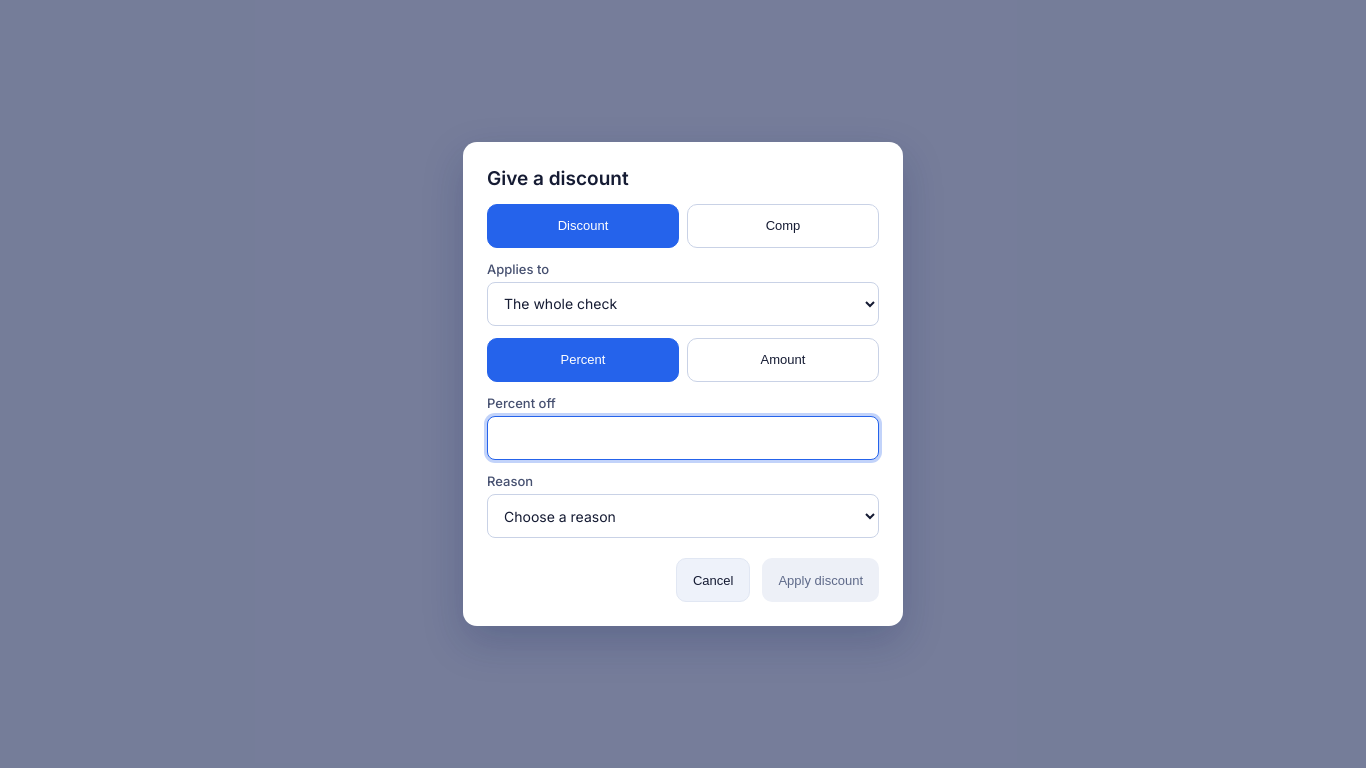
it: <DiscountDialog> › the manager is shown the exact money they approve, and that later items are not covered
Type "10" into the field labelled "Percent off" at (683, 438), box [487,416,879,460]
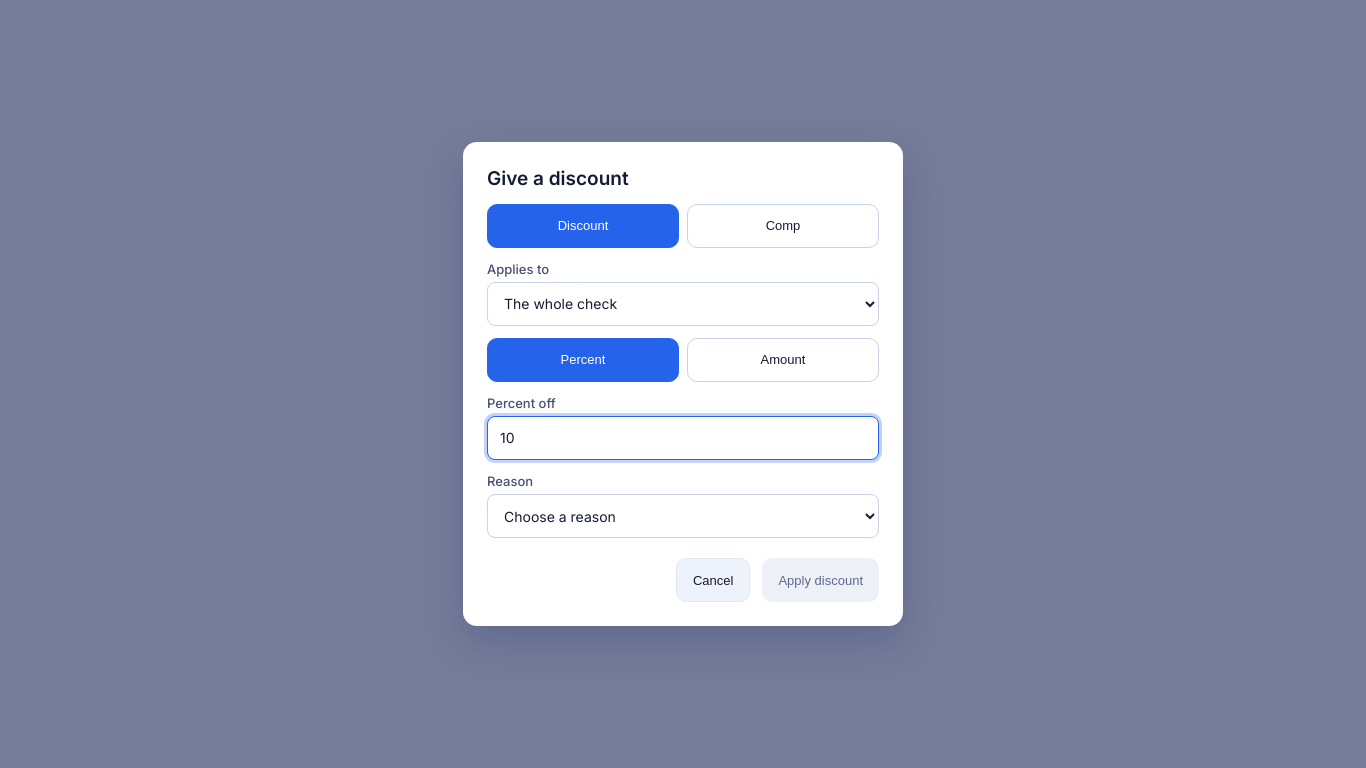
Select "Promotion" in the dropdown labelled "Reason" at (683, 516), box [487,494,879,538]
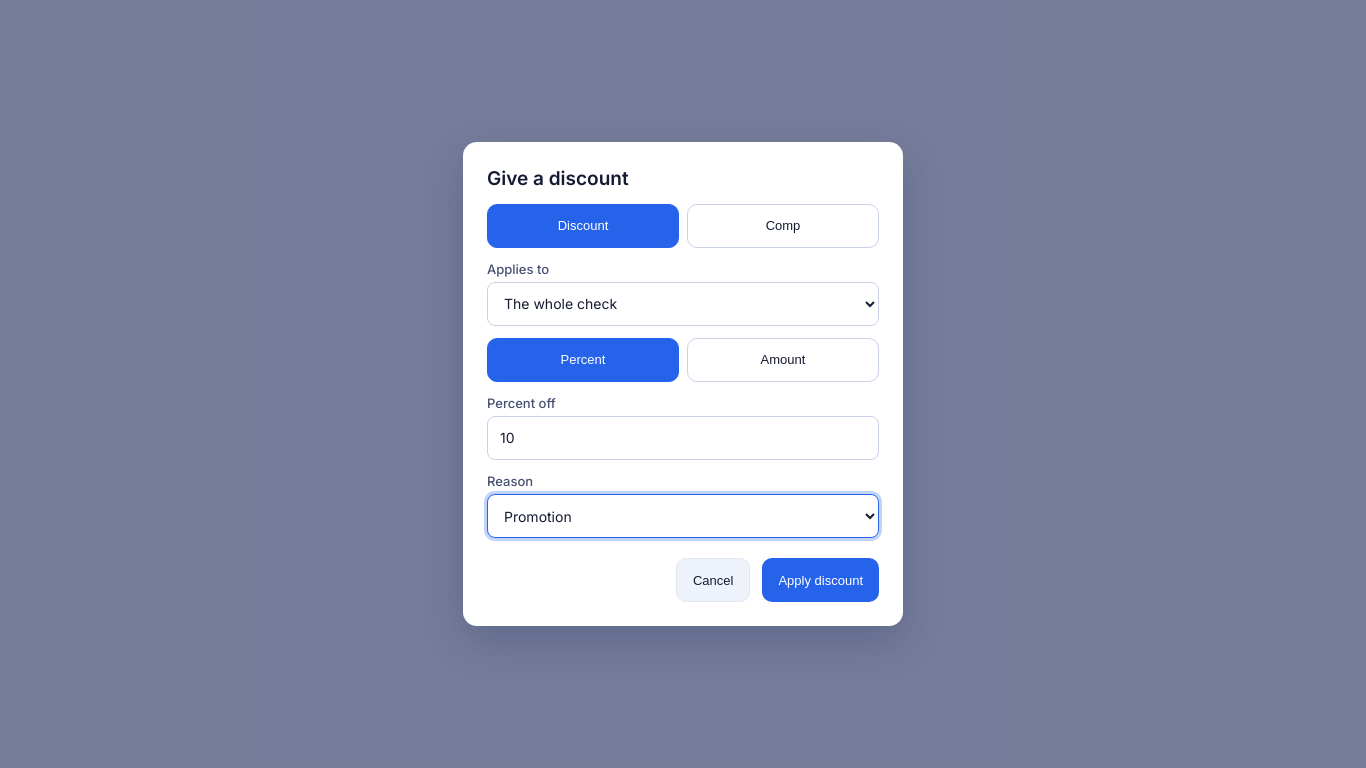
Click the button "Apply discount" at (821, 580), box [762,558,879,602]
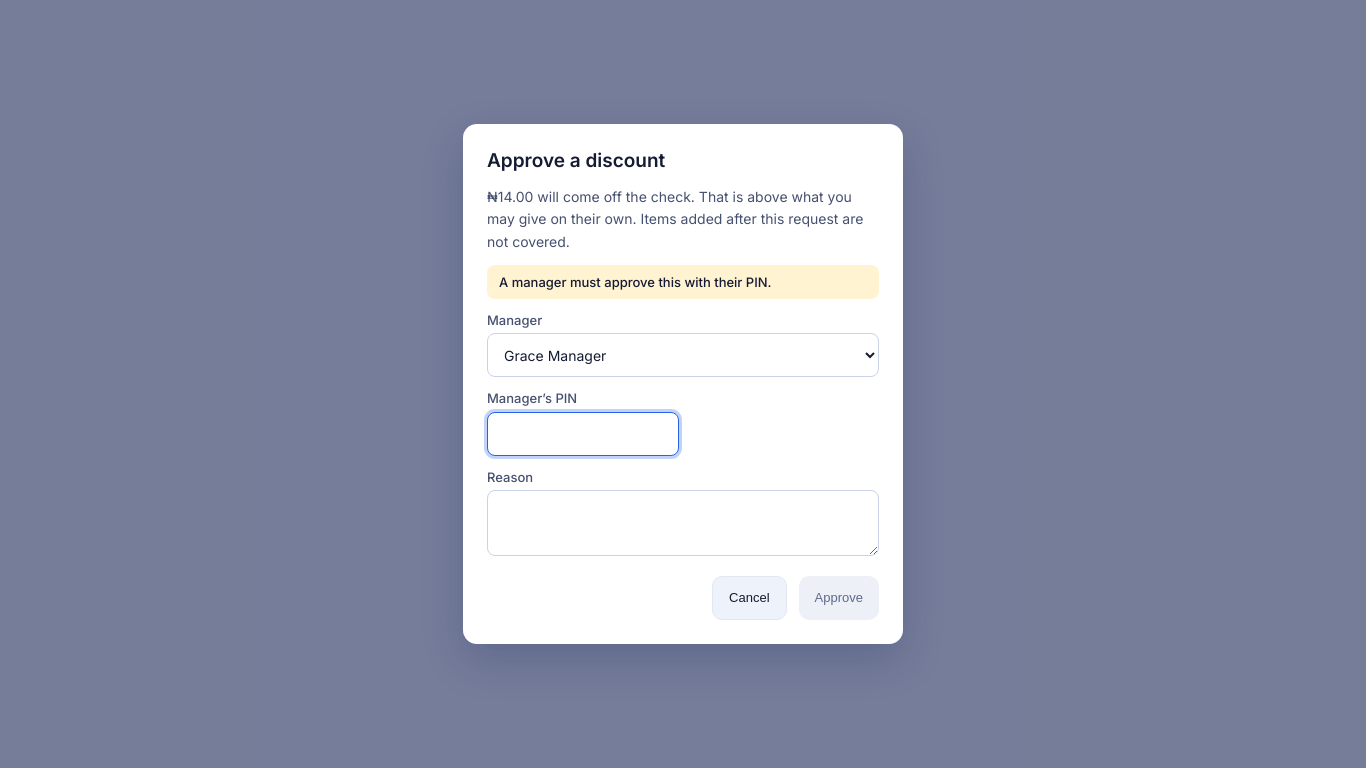
Now the text "Items added after this request are not covered" is shown, box [487,188,863,250]
